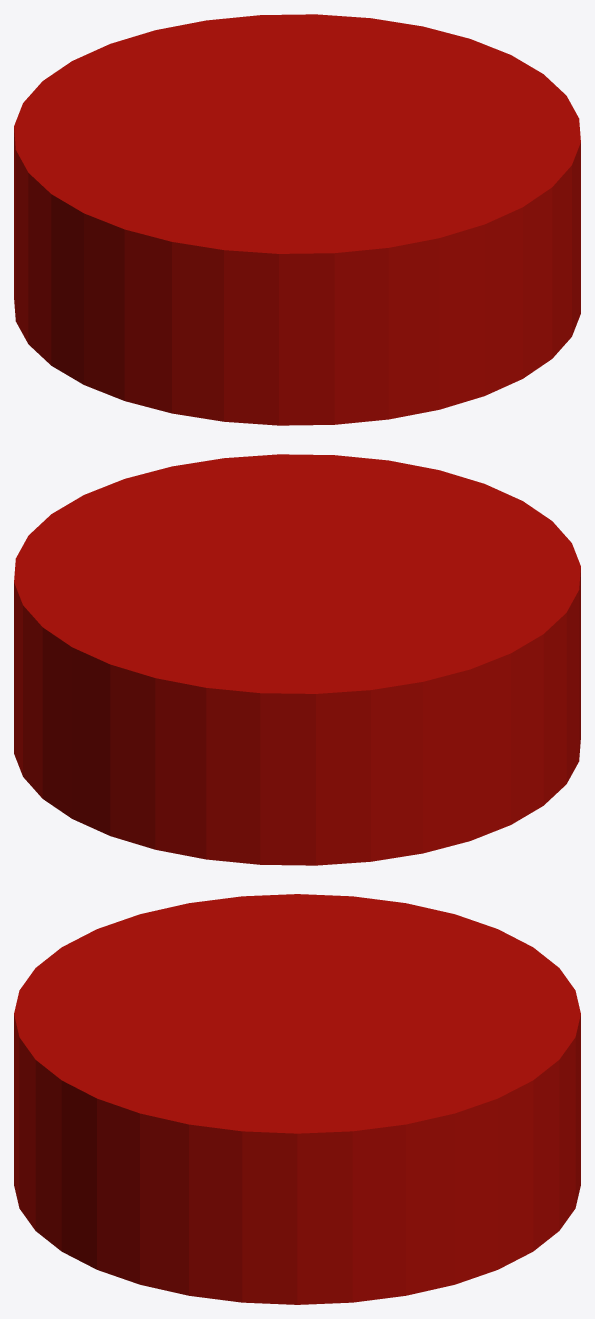
The model's file is button.glb.
3 views of the same model, one above another, from view 1: azimuth 30°, elevation 25°; view 2: azimuth 150°, elevation 25°; view 3: azimuth 270°, elevation 25° (orthographic).
Visible parts, largest first — view 1: Cylinder; view 2: Cylinder; view 3: Cylinder.
Part boxes in pixels (box(x1,y1,x2,y2)): Cylinder: box(14, 14, 580, 425); Cylinder: box(14, 454, 580, 865); Cylinder: box(14, 894, 580, 1304).
Bounding box in the file's own units: 0.3 × 0.1 × 0.3.
